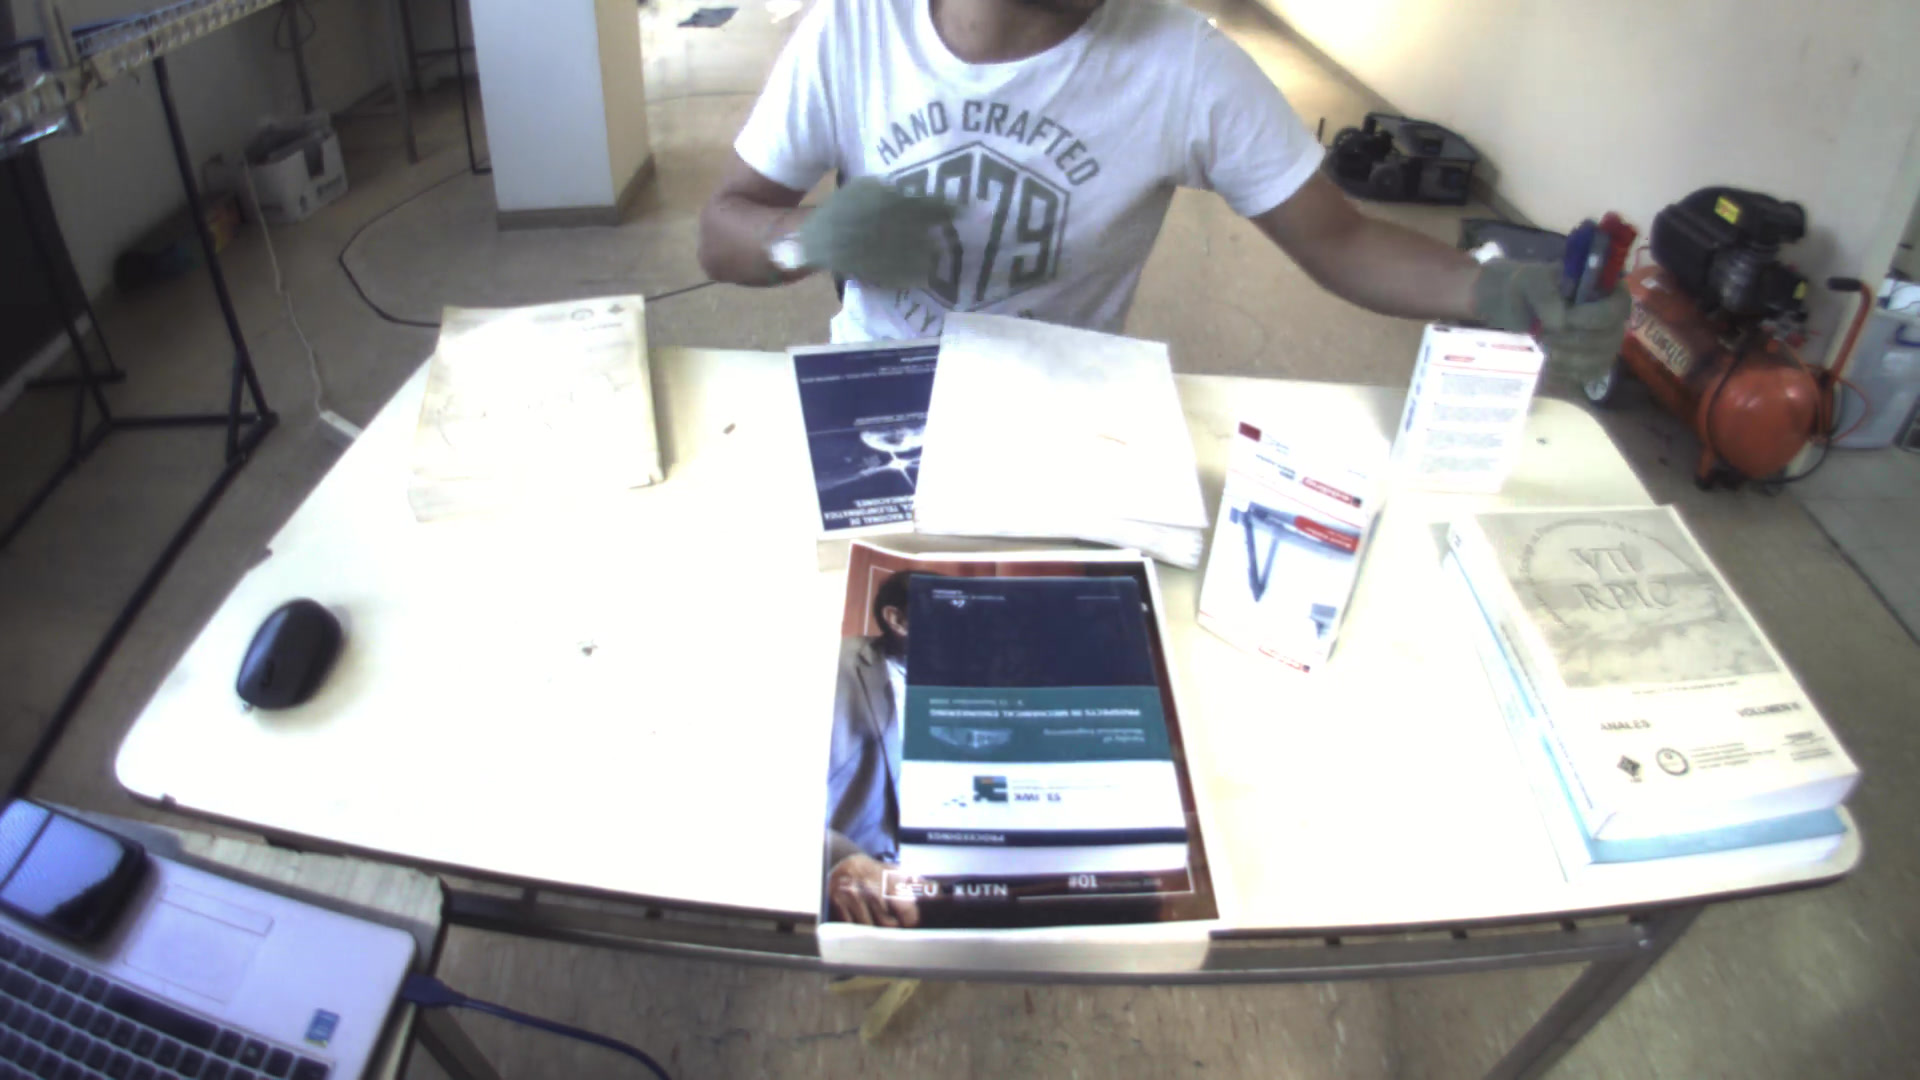hand: (774, 165, 976, 295), (1493, 233, 1644, 401)
